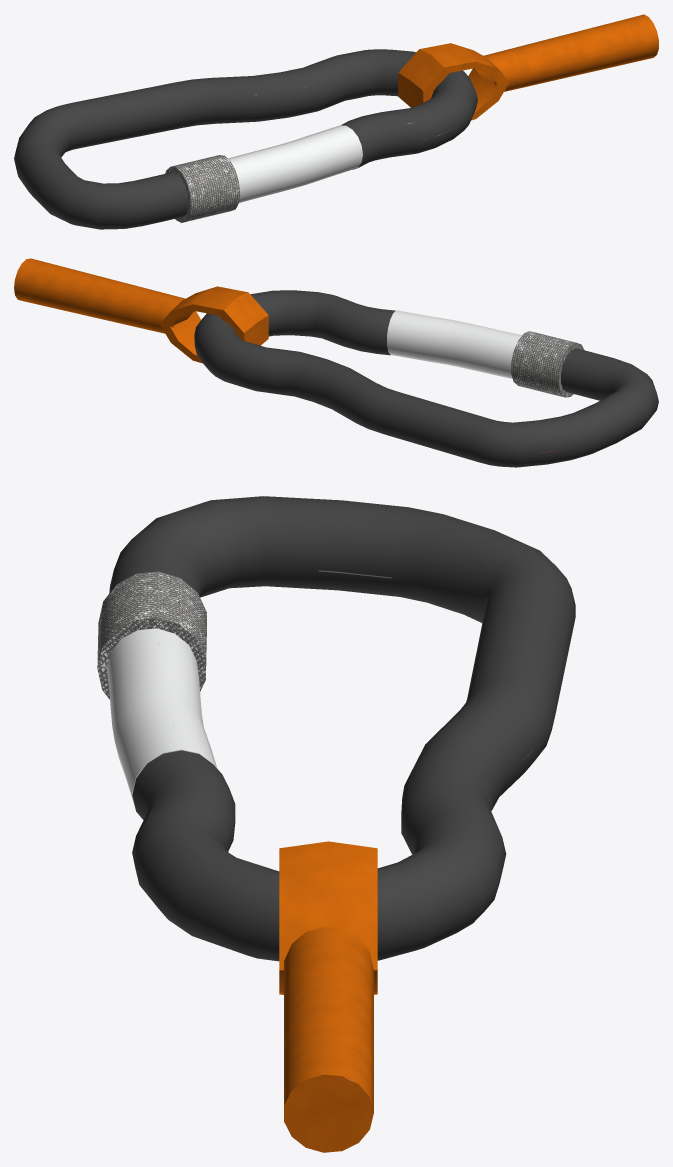
Rendered from Climbing Rope 1.fbx.
3 renders of one model, top to bottom at view 1: azimuth 30°, elevation 25°; view 2: azimuth 150°, elevation 25°; view 3: azimuth 270°, elevation 25°, orthographic. The views are drawn at different scales.
Visible parts, largest first — view 1: Cylinder, Cylinder.003, Cylinder.002, Torus, Cylinder.001; view 2: Cylinder, Cylinder.003, Cylinder.002, Torus, Cylinder.001; view 3: Cylinder, Cylinder.003, Cylinder.002, Torus, Cylinder.001.
Boxes of the visible parts, <box> form: Cylinder: <box>14,49,477,229</box>; Cylinder.003: <box>473,14,658,91</box>; Cylinder.002: <box>228,125,362,202</box>; Torus: <box>398,43,509,120</box>; Cylinder.001: <box>165,155,239,222</box>; Cylinder: <box>194,290,658,467</box>; Cylinder.003: <box>14,258,195,333</box>; Cylinder.002: <box>387,310,522,378</box>; Torus: <box>160,286,268,363</box>; Cylinder.001: <box>511,331,584,397</box>; Cylinder: <box>109,496,575,961</box>; Cylinder.003: <box>284,927,373,1152</box>; Cylinder.002: <box>106,628,217,810</box>; Torus: <box>279,841,377,994</box>; Cylinder.001: <box>97,571,206,699</box>.
Size of the model in its own units: 16.9 by 1.76 by 5.77.
1 material, 1 textured.
